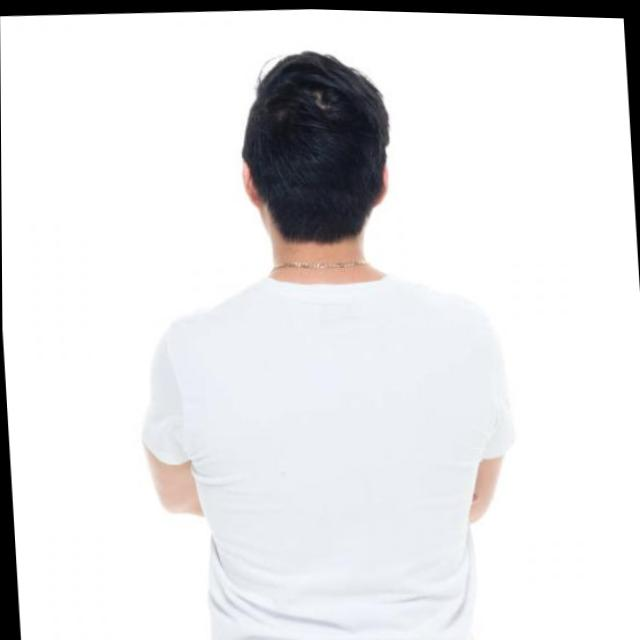no helmet: (239, 39, 403, 258)
